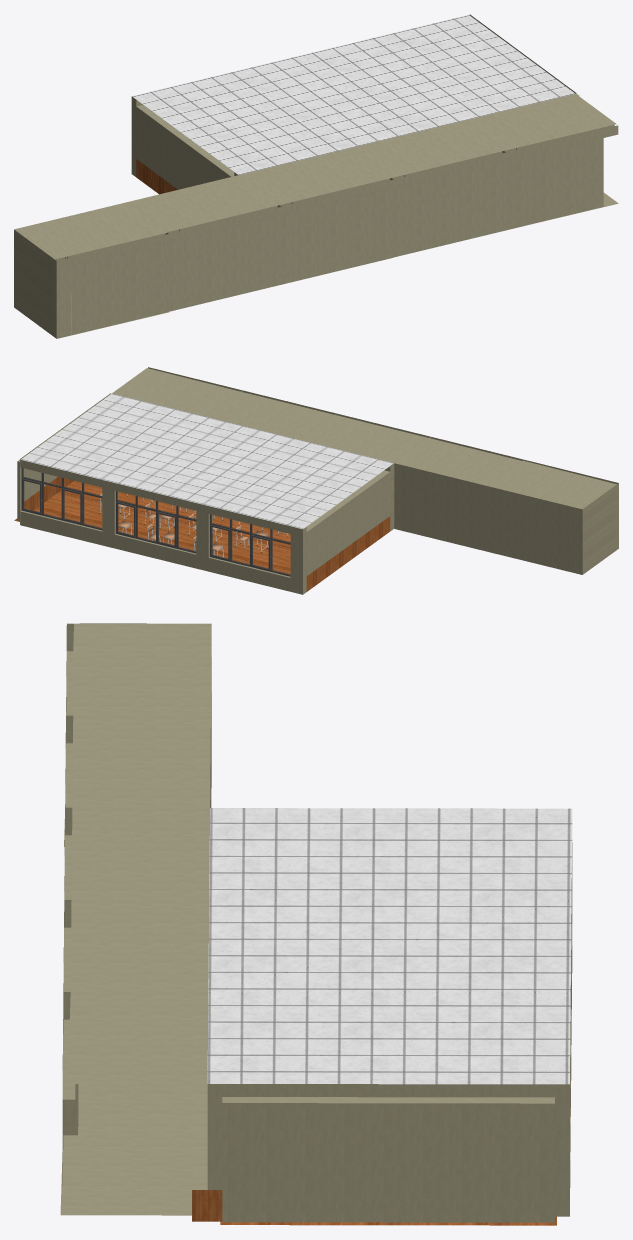
Rendered from salon_normal.glb.
3 renders of one model, top to bottom at view 1: azimuth 30°, elevation 25°; view 2: azimuth 150°, elevation 25°; view 3: azimuth 270°, elevation 25°, orthographic. The views are drawn at different scales.
Parts seen in each view (by area): view 1: Cube.011, Cube.022, wood_low; view 2: Cube.011, Cube.022, floor, Cube.003, wood_low, wood_low.001; view 3: Cube.011, Cube.022, floor, wood_low.001.
Boxes of the visible parts, <box> form: Cube.011: <box>14,14,618,338</box>; Cube.022: <box>132,15,575,174</box>; wood_low: <box>136,159,177,194</box>; Cube.011: <box>17,367,618,594</box>; Cube.022: <box>21,393,393,529</box>; floor: <box>14,480,290,574</box>; Cube.003: <box>21,468,290,576</box>; wood_low: <box>306,516,390,591</box>; wood_low.001: <box>24,477,73,510</box>; Cube.011: <box>60,623,572,1222</box>; Cube.022: <box>207,808,572,1084</box>; floor: <box>220,1216,556,1225</box>; wood_low.001: <box>192,1190,222,1221</box>.
Size of the model in its own units: 90.01 by 11.92 by 41.36.
Materials: 18 (9 with a texture image).
